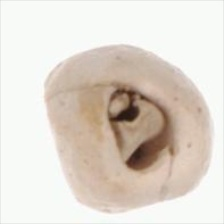L3: (105, 85, 174, 175)
L4: (45, 44, 213, 215)
